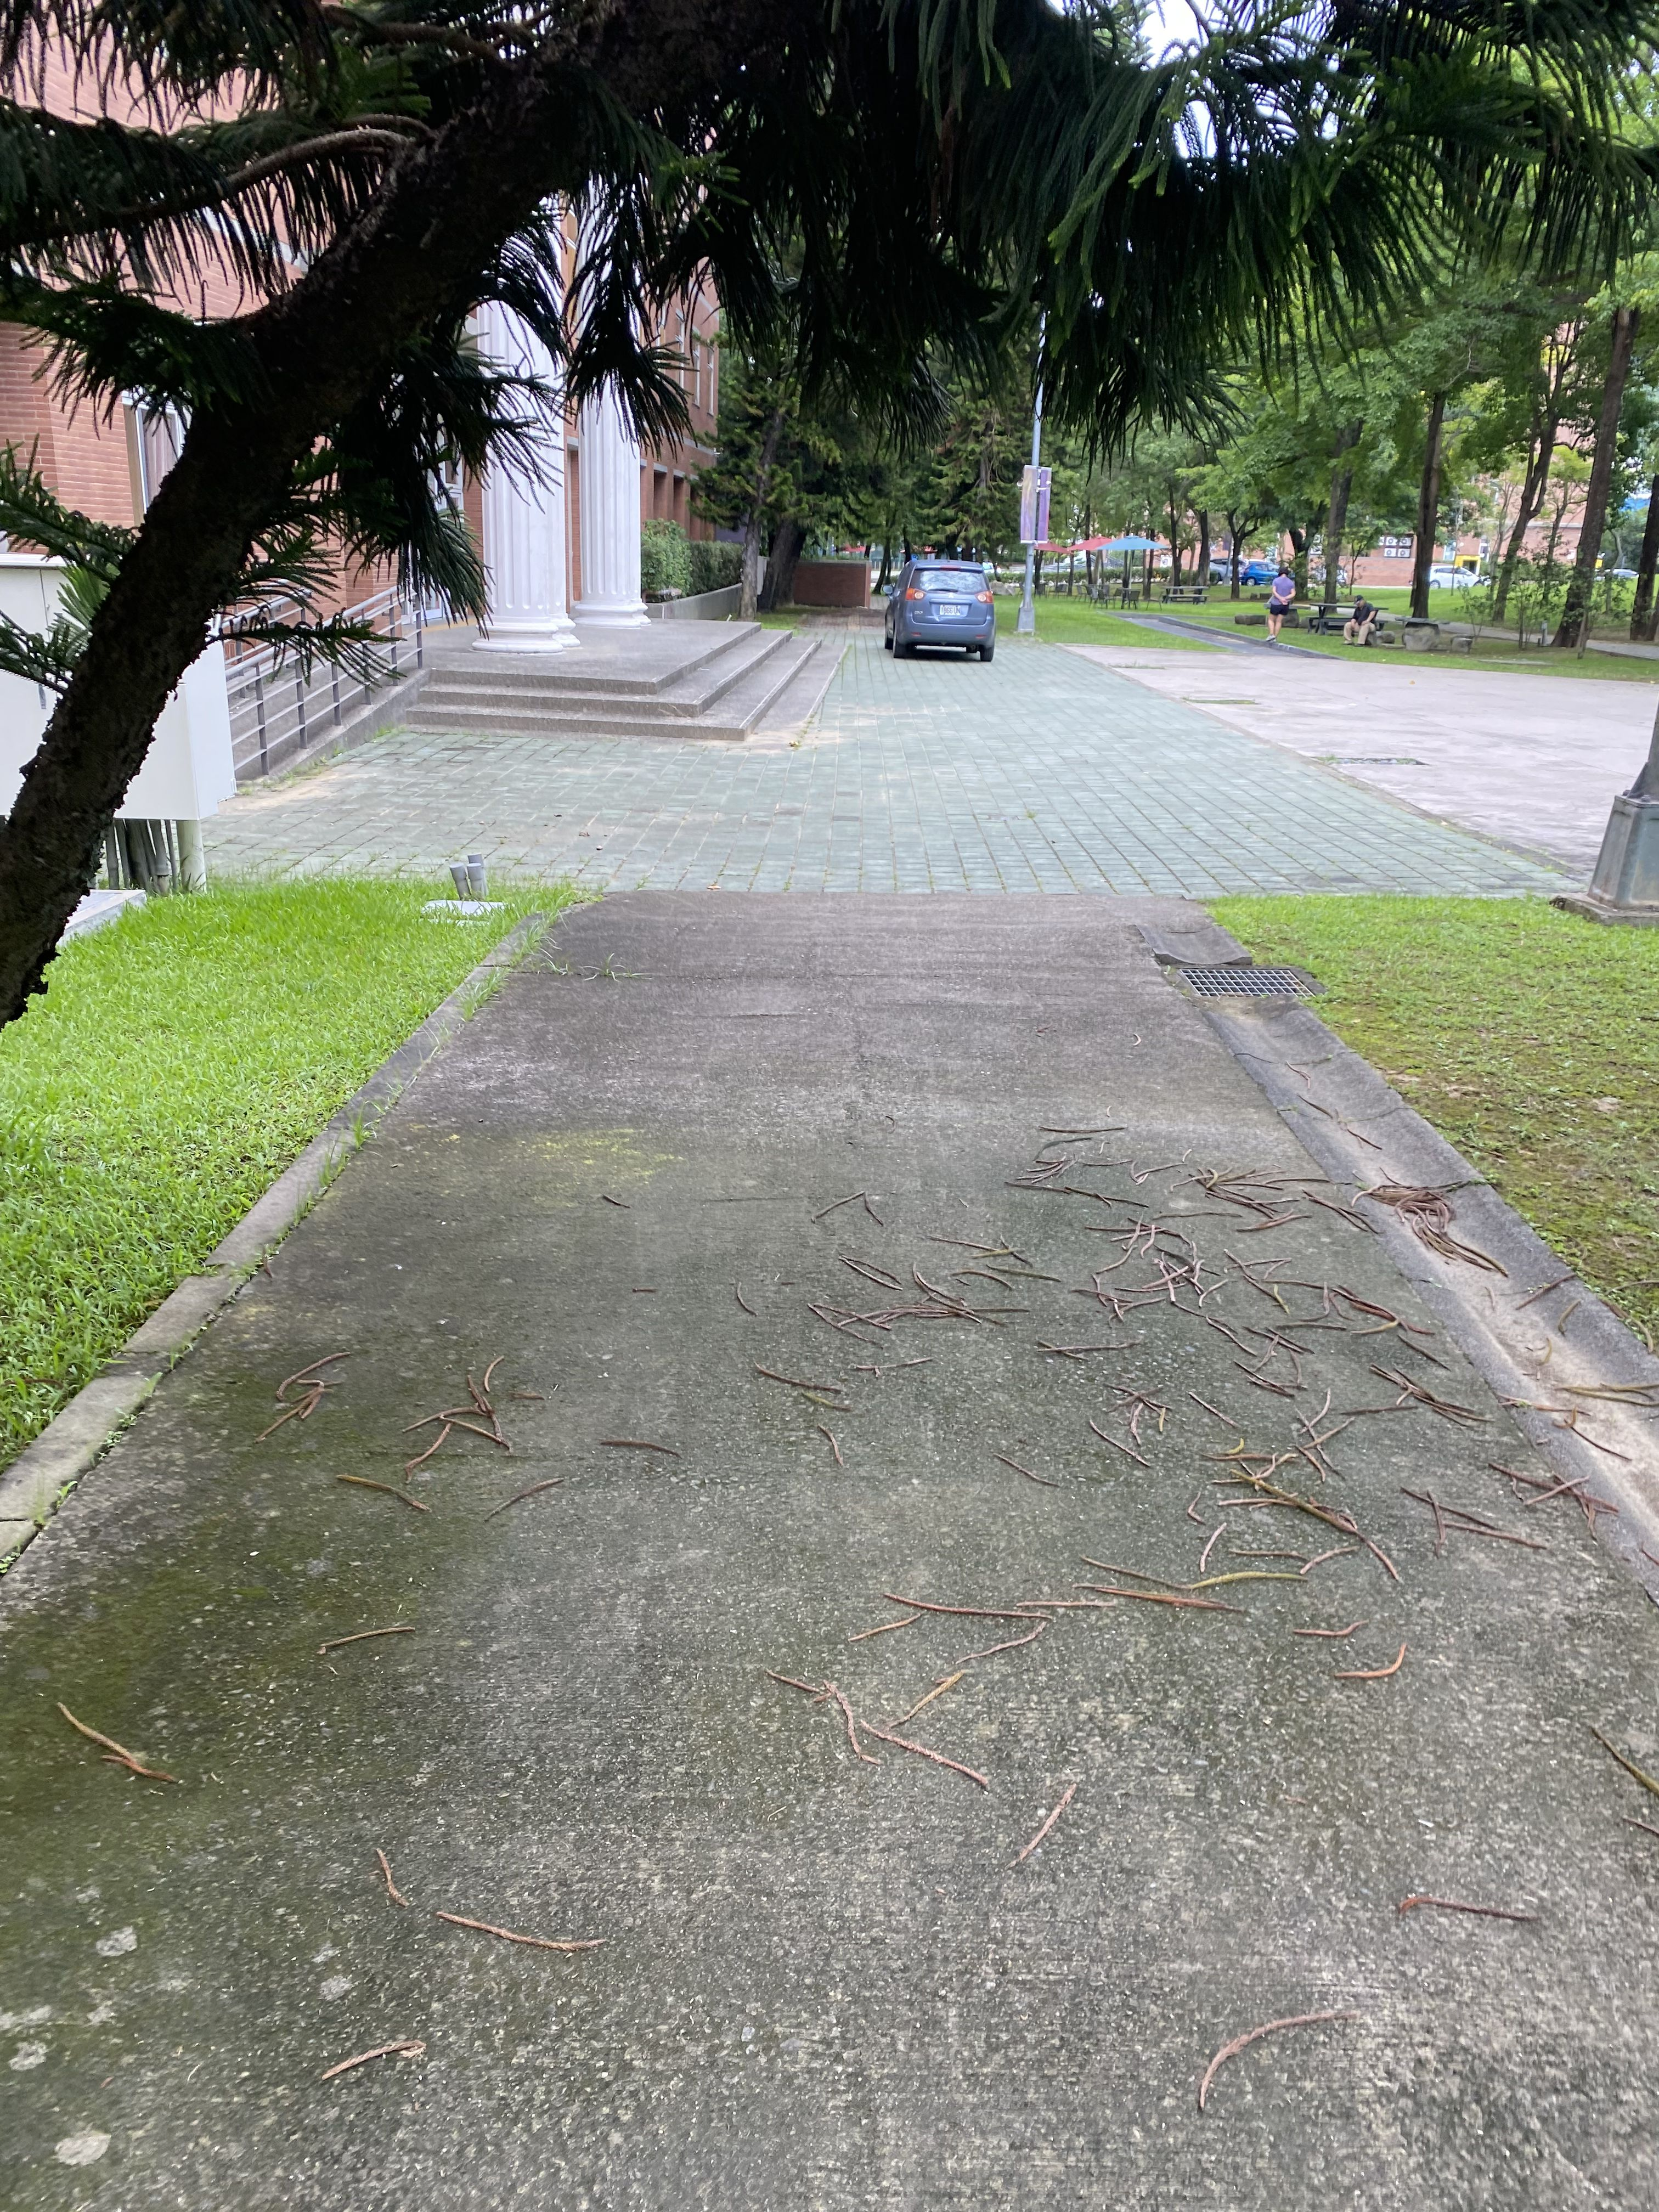sidewalk: (7, 592, 1659, 2212)
